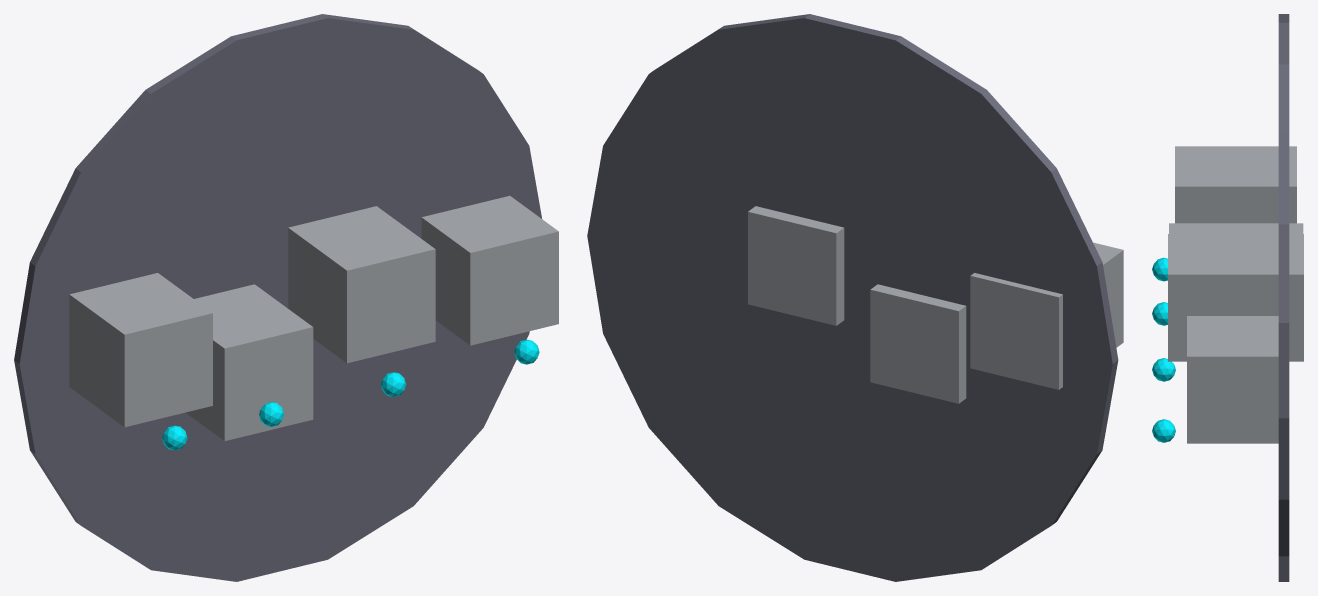
Rendered from 04_event_hazard_cluster.glb.
3 views of the same model, side by side, from view 1: azimuth 30°, elevation 25°; view 2: azimuth 150°, elevation 25°; view 3: azimuth 270°, elevation 25° (orthographic). The views are drawn at different scales.
Visible parts, largest first — view 1: scatter_base, tech_crate_2, tech_crate_0, tech_crate_3, tech_crate_1; view 2: scatter_base, tech_crate_0, tech_crate_2, tech_crate_1; view 3: tech_crate_2, tech_crate_3, tech_crate_0, scatter_base, tech_crate_1, status_light_3, status_light_2, status_light_1, status_light_0.
Part boxes in pixels (<box>): scatter_base: <box>14,14,541,581</box>; tech_crate_2: <box>288,206,435,363</box>; tech_crate_0: <box>69,273,212,427</box>; tech_crate_3: <box>421,195,558,345</box>; tech_crate_1: <box>185,284,313,441</box>; scatter_base: <box>587,14,1118,581</box>; tech_crate_0: <box>970,242,1123,389</box>; tech_crate_2: <box>748,206,844,325</box>; tech_crate_1: <box>870,284,966,403</box>; tech_crate_2: <box>1168,234,1303,361</box>; tech_crate_3: <box>1187,316,1278,443</box>; tech_crate_0: <box>1175,146,1296,223</box>; scatter_base: <box>1278,14,1289,581</box>; tech_crate_1: <box>1169,223,1303,233</box>; status_light_3: <box>1152,419,1175,442</box>; status_light_2: <box>1152,358,1175,381</box>; status_light_1: <box>1152,302,1167,325</box>; status_light_0: <box>1152,257,1167,281</box>.
Size of the model in its own units: 1.9 by 1.87 by 0.5063.
